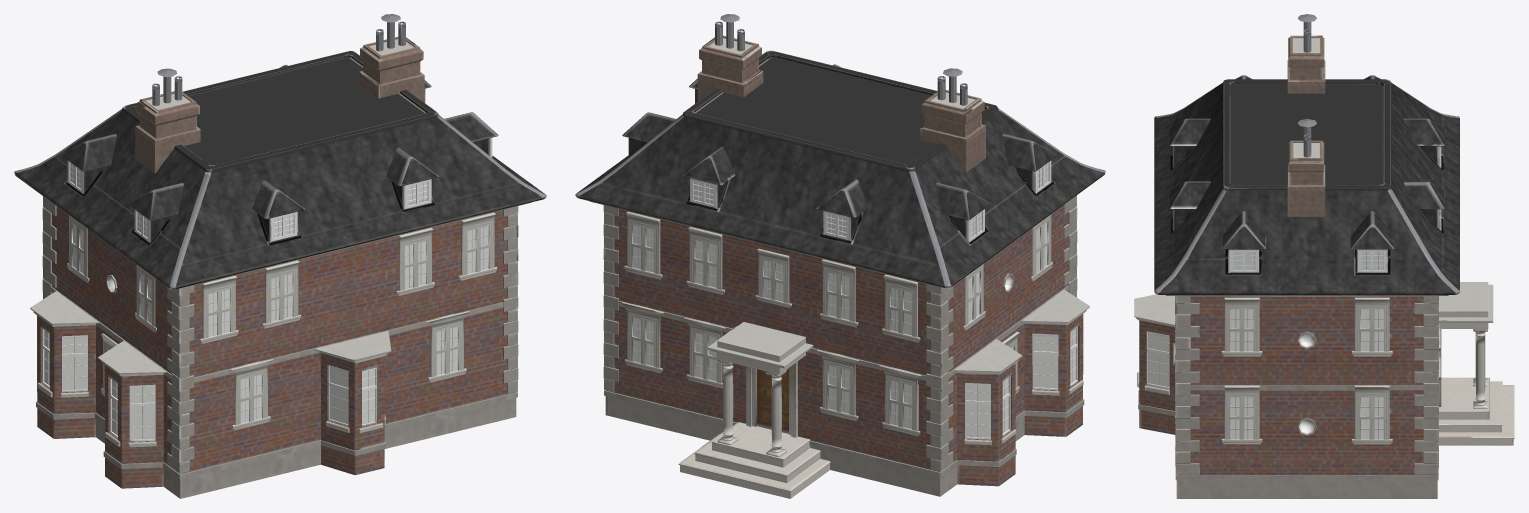
Rendered from House3.glb.
3 views of the same model, side by side, from view 1: azimuth 30°, elevation 25°; view 2: azimuth 150°, elevation 25°; view 3: azimuth 270°, elevation 25° (orthographic). The views are drawn at different scales.
Visible parts, largest first — view 1: House_Joined; view 2: House_Joined; view 3: House_Joined.
Boxes of the visible parts, x1,y1,x2,y2 form: House_Joined: (14,14,546,498); House_Joined: (575,14,1105,498); House_Joined: (1134,14,1514,498).
Size of what is drawn, in the model's own units: 16.78 by 14.86 by 14.6.
1 material, 1 textured.
